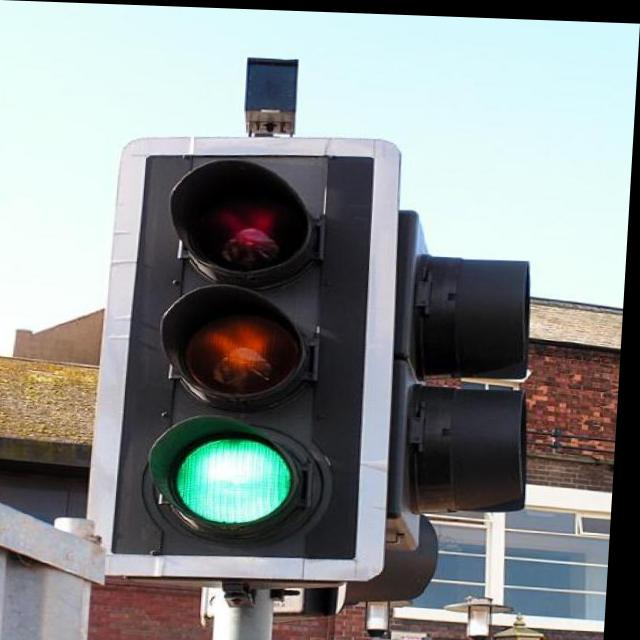green light: (133, 155, 365, 549)
